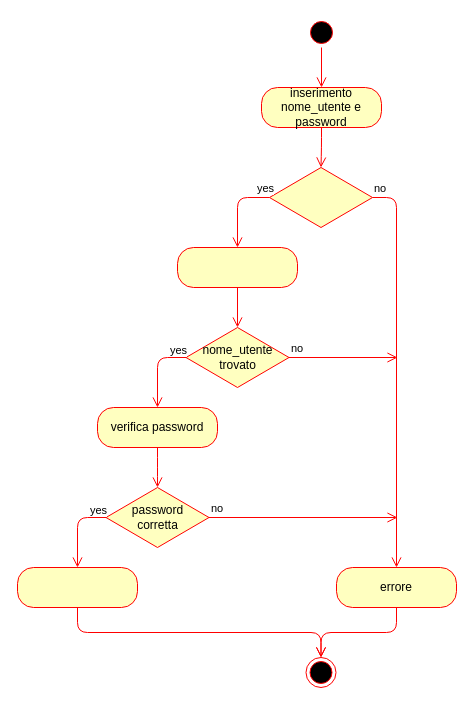
The diagram is 474 pixels wide and 705 high, and some of its shapes have lost their labels. The centre of each missing label's shape, as x and y in pixels:
"inserimento completo" goes at [320,197].
"successo" goes at [77,587].
"trova utente" goes at [237,267].
